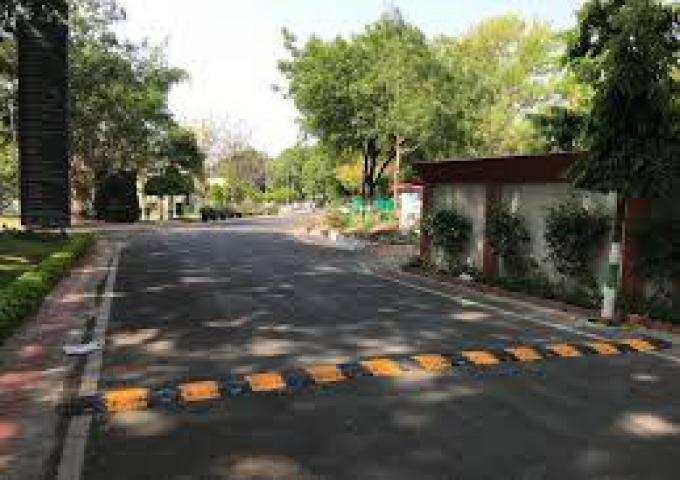Speed_Breaker: (57, 333, 678, 416), (56, 332, 664, 414)
